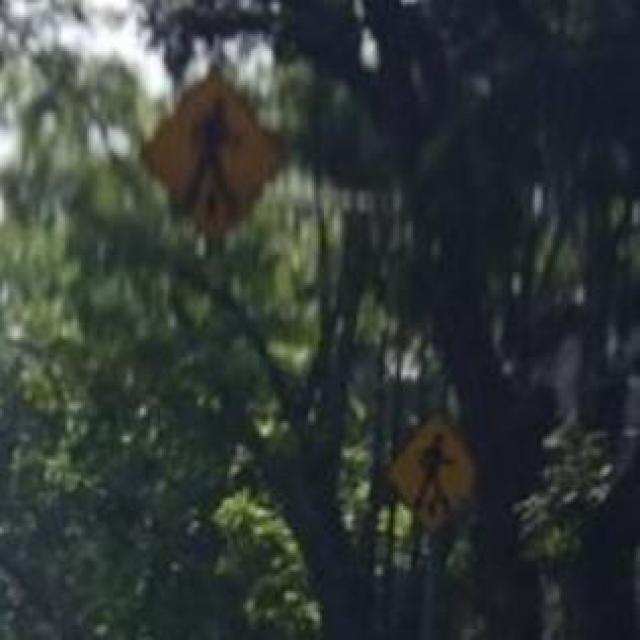traffic sign: (148, 79, 284, 232), (393, 421, 472, 528)
